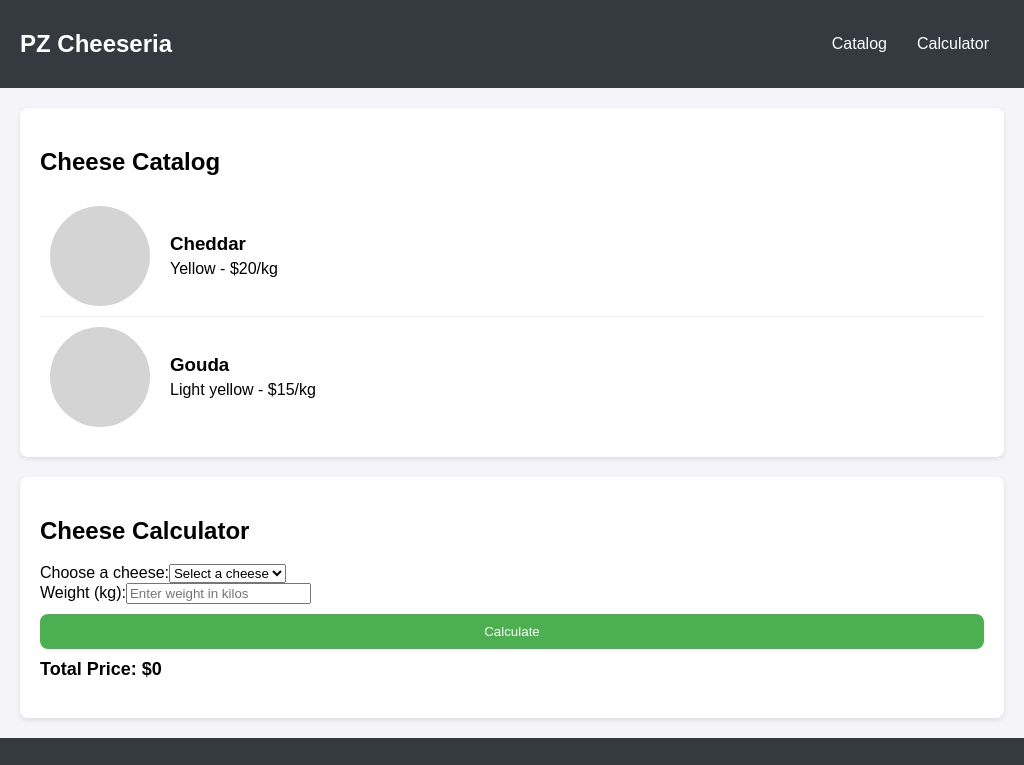
Test: App component tests › calculates total price correctly based on selected cheese and weight
Select "Cheddar" in the dropdown labelled "Choose a cheese:": (228, 574) [169,564,286,583]
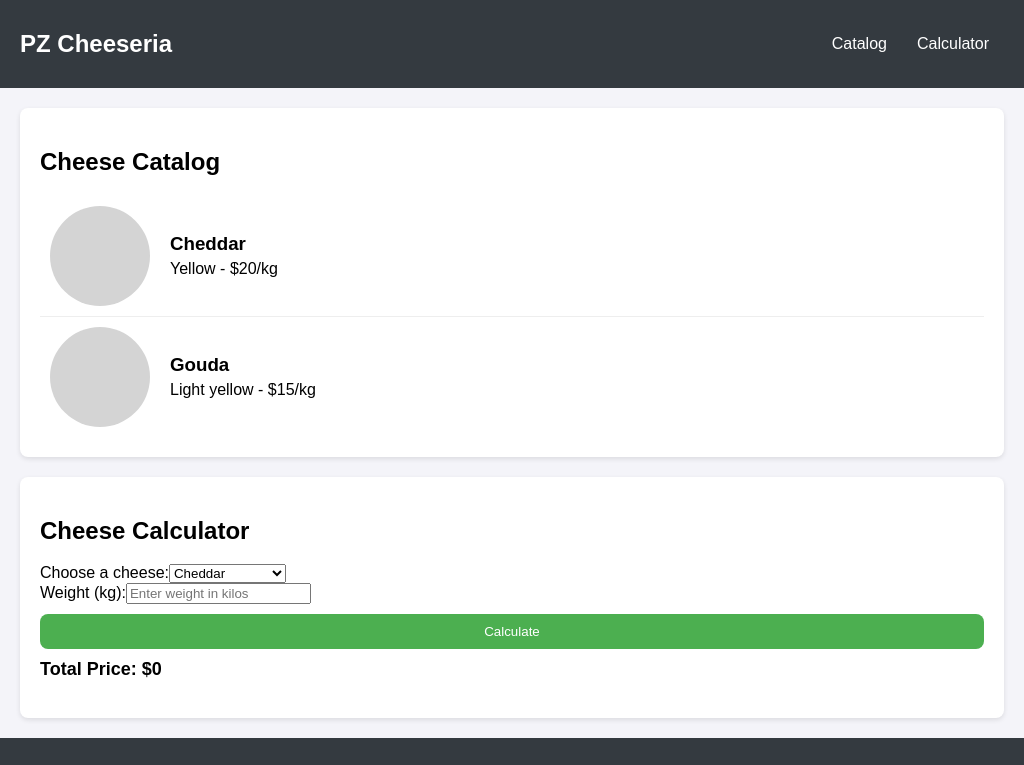
In the number field with placeholder "Enter weight in kilos": (218, 594) [126,583,311,604], type "2"
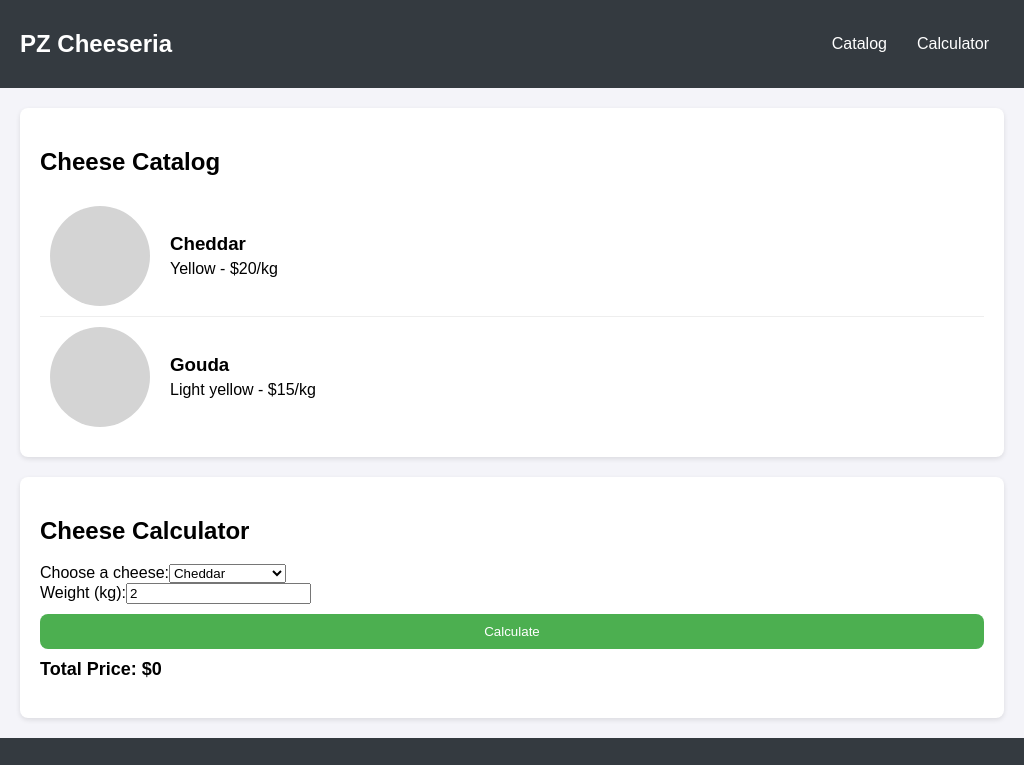
Click the button "Calculate": (512, 632) [40,614,984,649]
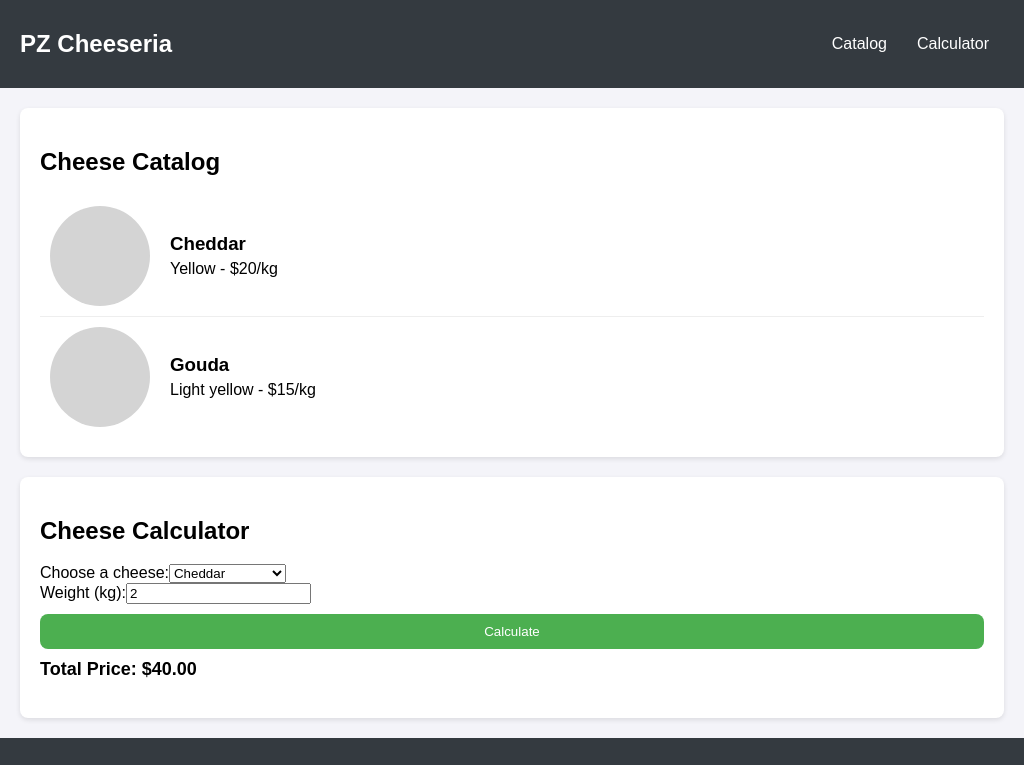
Check: the text "Total Price: $40.00" is shown, box [40,659,197,679]
